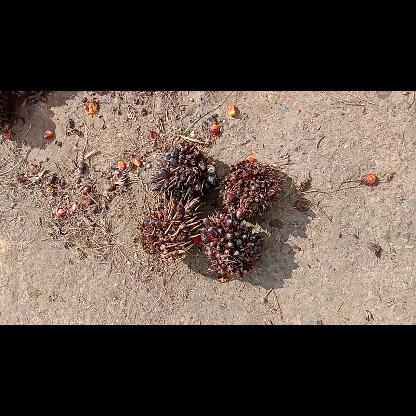TBS abnormal: (140, 190, 200, 258), (202, 211, 262, 277), (151, 140, 215, 200), (218, 159, 282, 217)
